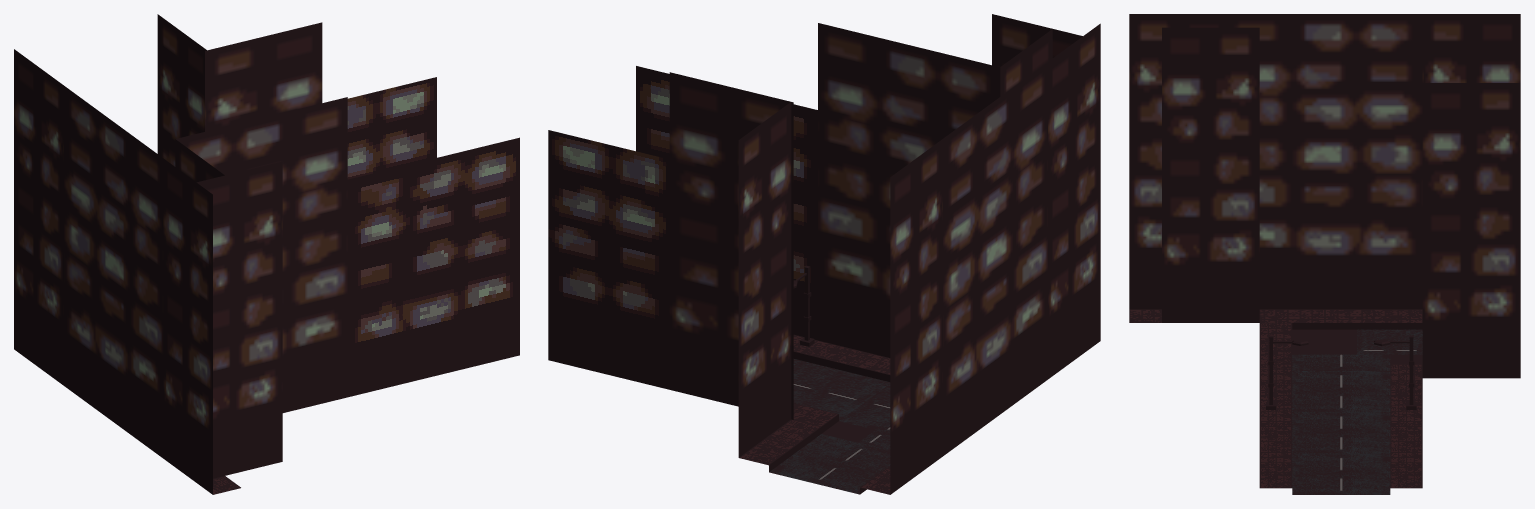
Rendered from Turn_2.fbx.
The picture shows the model from 3 angles, left to right: view 1: azimuth 30°, elevation 25°; view 2: azimuth 150°, elevation 25°; view 3: azimuth 270°, elevation 25°; orthographic projection. The views are drawn at different scales.
Parts seen in each view (by area): view 1: pPlane24, pPlane42, pPlane22, pPlane45, pPlane43, pPlane41, pPlane35, pPlane36, pPlane37, pPlane44; view 2: pPlane42, pPlane22, pPlane36, pPlane35, pPlane37, pPlane41, pPlane43, pPlane24, Road5, Road2, pPlane45, pPlane11 (+7 smaller); view 3: pPlane42, pPlane37, pPlane44, pPlane43, pPlane41, Road1, Road, Road2, Road7, Road6, Road4, pPlane6 (+13 smaller).
Boxes of the visible parts, left/top/right/bottom form: pPlane24: left=347, top=137, right=519, bottom=397; pPlane42: left=64, top=86, right=163, bottom=458; pPlane22: left=176, top=97, right=347, bottom=412; pPlane45: left=196, top=161, right=282, bottom=478; pPlane43: left=163, top=158, right=212, bottom=494; pPlane41: left=14, top=49, right=63, bottom=385; pPlane35: left=205, top=22, right=322, bottom=131; pPlane36: left=347, top=77, right=436, bottom=179; pPlane37: left=157, top=14, right=206, bottom=166; pPlane44: left=175, top=139, right=224, bottom=182; pPlane42: left=943, top=62, right=1047, bottom=455; pPlane22: left=818, top=23, right=1000, bottom=357; pPlane36: left=548, top=130, right=669, bottom=389; pPlane35: left=669, top=72, right=793, bottom=419; pPlane37: left=738, top=102, right=791, bottom=457; pPlane41: left=890, top=139, right=942, bottom=494; pPlane43: left=1048, top=23, right=1100, bottom=379; pPlane24: left=636, top=66, right=817, bottom=340; Road5: left=769, top=434, right=890, bottom=494; Road2: left=793, top=360, right=890, bottom=420; pPlane45: left=992, top=14, right=1082, bottom=66; pPlane11: left=739, top=419, right=820, bottom=465; pPlane42: left=1227, top=14, right=1422, bottom=309; pPlane37: left=1422, top=83, right=1520, bottom=378; pPlane44: left=1162, top=27, right=1259, bottom=322; pPlane43: left=1129, top=14, right=1227, bottom=309; pPlane41: left=1422, top=14, right=1520, bottom=82; Road1: left=1292, top=412, right=1390, bottom=453; Road: left=1292, top=453, right=1390, bottom=494; Road2: left=1292, top=371, right=1390, bottom=412; Road7: left=1292, top=354, right=1390, bottom=370; Road6: left=1292, top=329, right=1357, bottom=354; Road4: left=1357, top=329, right=1422, bottom=354; pPlane6: left=1259, top=447, right=1292, bottom=488.
Size of the model in its own units: 26 by 20.44 by 24.
Materials: 8 (8 with a texture image).
